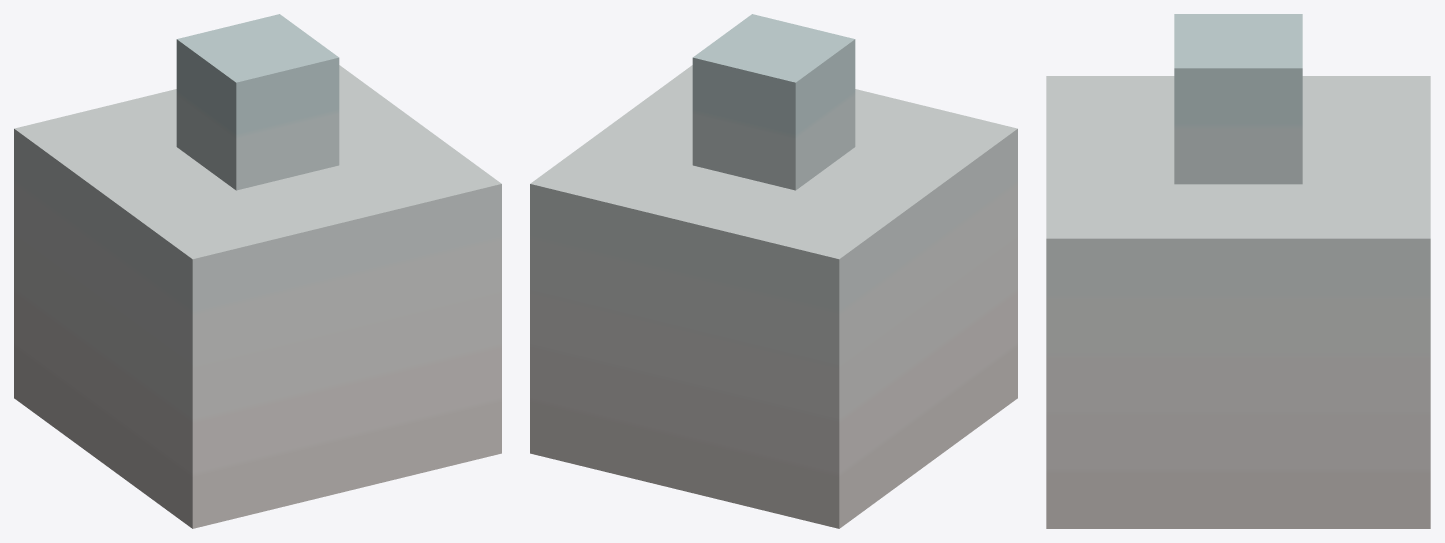
File: Hip062.fbx
3 renders of one model, left to right at view 1: azimuth 30°, elevation 25°; view 2: azimuth 150°, elevation 25°; view 3: azimuth 270°, elevation 25°, orthographic. The views are drawn at different scales.
Visible parts, largest first — view 1: Hip062; view 2: Hip062; view 3: Hip062.
Part boxes in pixels (x1,y1,x2,y2): Hip062: [14, 14, 501, 528]; Hip062: [530, 14, 1017, 528]; Hip062: [1046, 14, 1430, 528].
Bounding box in the file's own units: 6 × 7 × 6.
